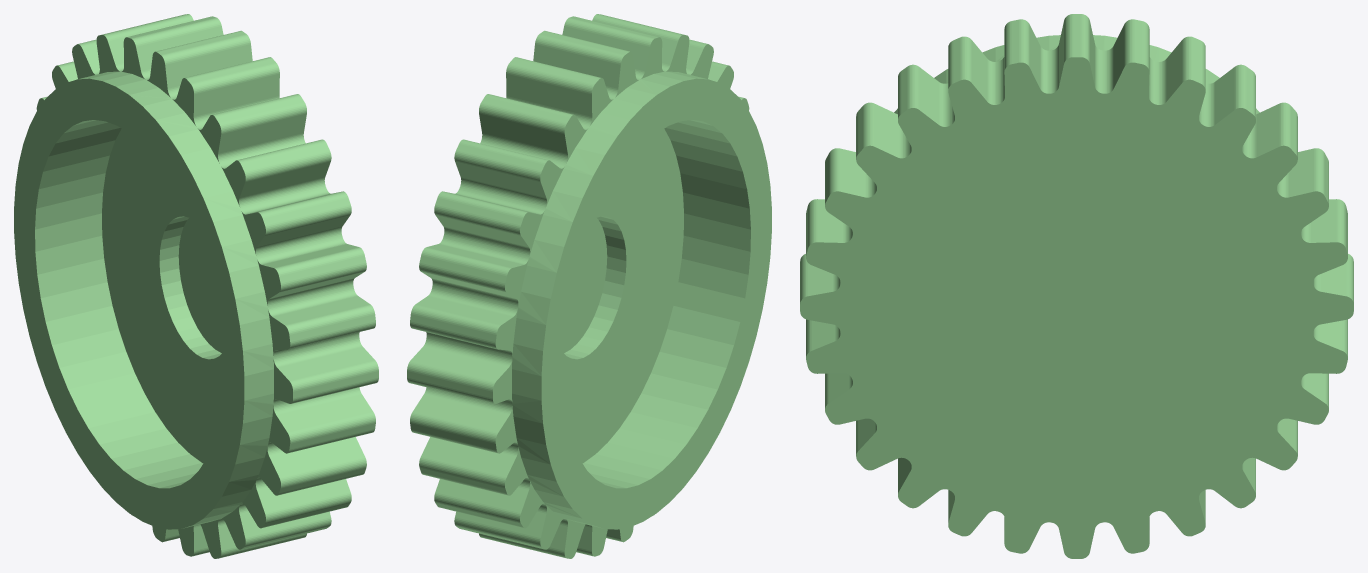
The model's file is pinion.glb.
3 renders of one model, left to right at view 1: azimuth 30°, elevation 25°; view 2: azimuth 150°, elevation 25°; view 3: azimuth 270°, elevation 25°, orthographic. The views are drawn at different scales.
Visible parts, largest first — view 1: pinion; view 2: pinion; view 3: pinion.
Part boxes in pixels (box(x1,y1,x2,y2)): pinion: box(14, 14, 378, 558); pinion: box(407, 14, 771, 558); pinion: box(800, 14, 1353, 558).
Bounding box in the file's own units: 0.00751 × 0.0302 × 0.0302.
